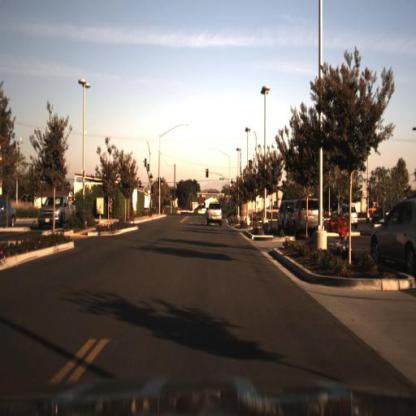car: (370, 197, 416, 279), (287, 199, 326, 240), (41, 191, 75, 231), (336, 203, 360, 231), (208, 200, 225, 225)
trafficLight-Red: (205, 165, 211, 177), (170, 185, 175, 195)
